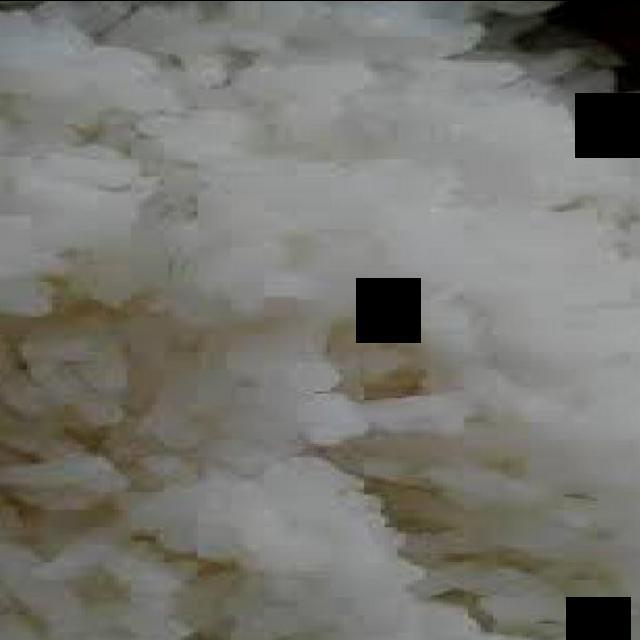Chicken -Chicken Inasal-: (0, 0, 639, 639)
